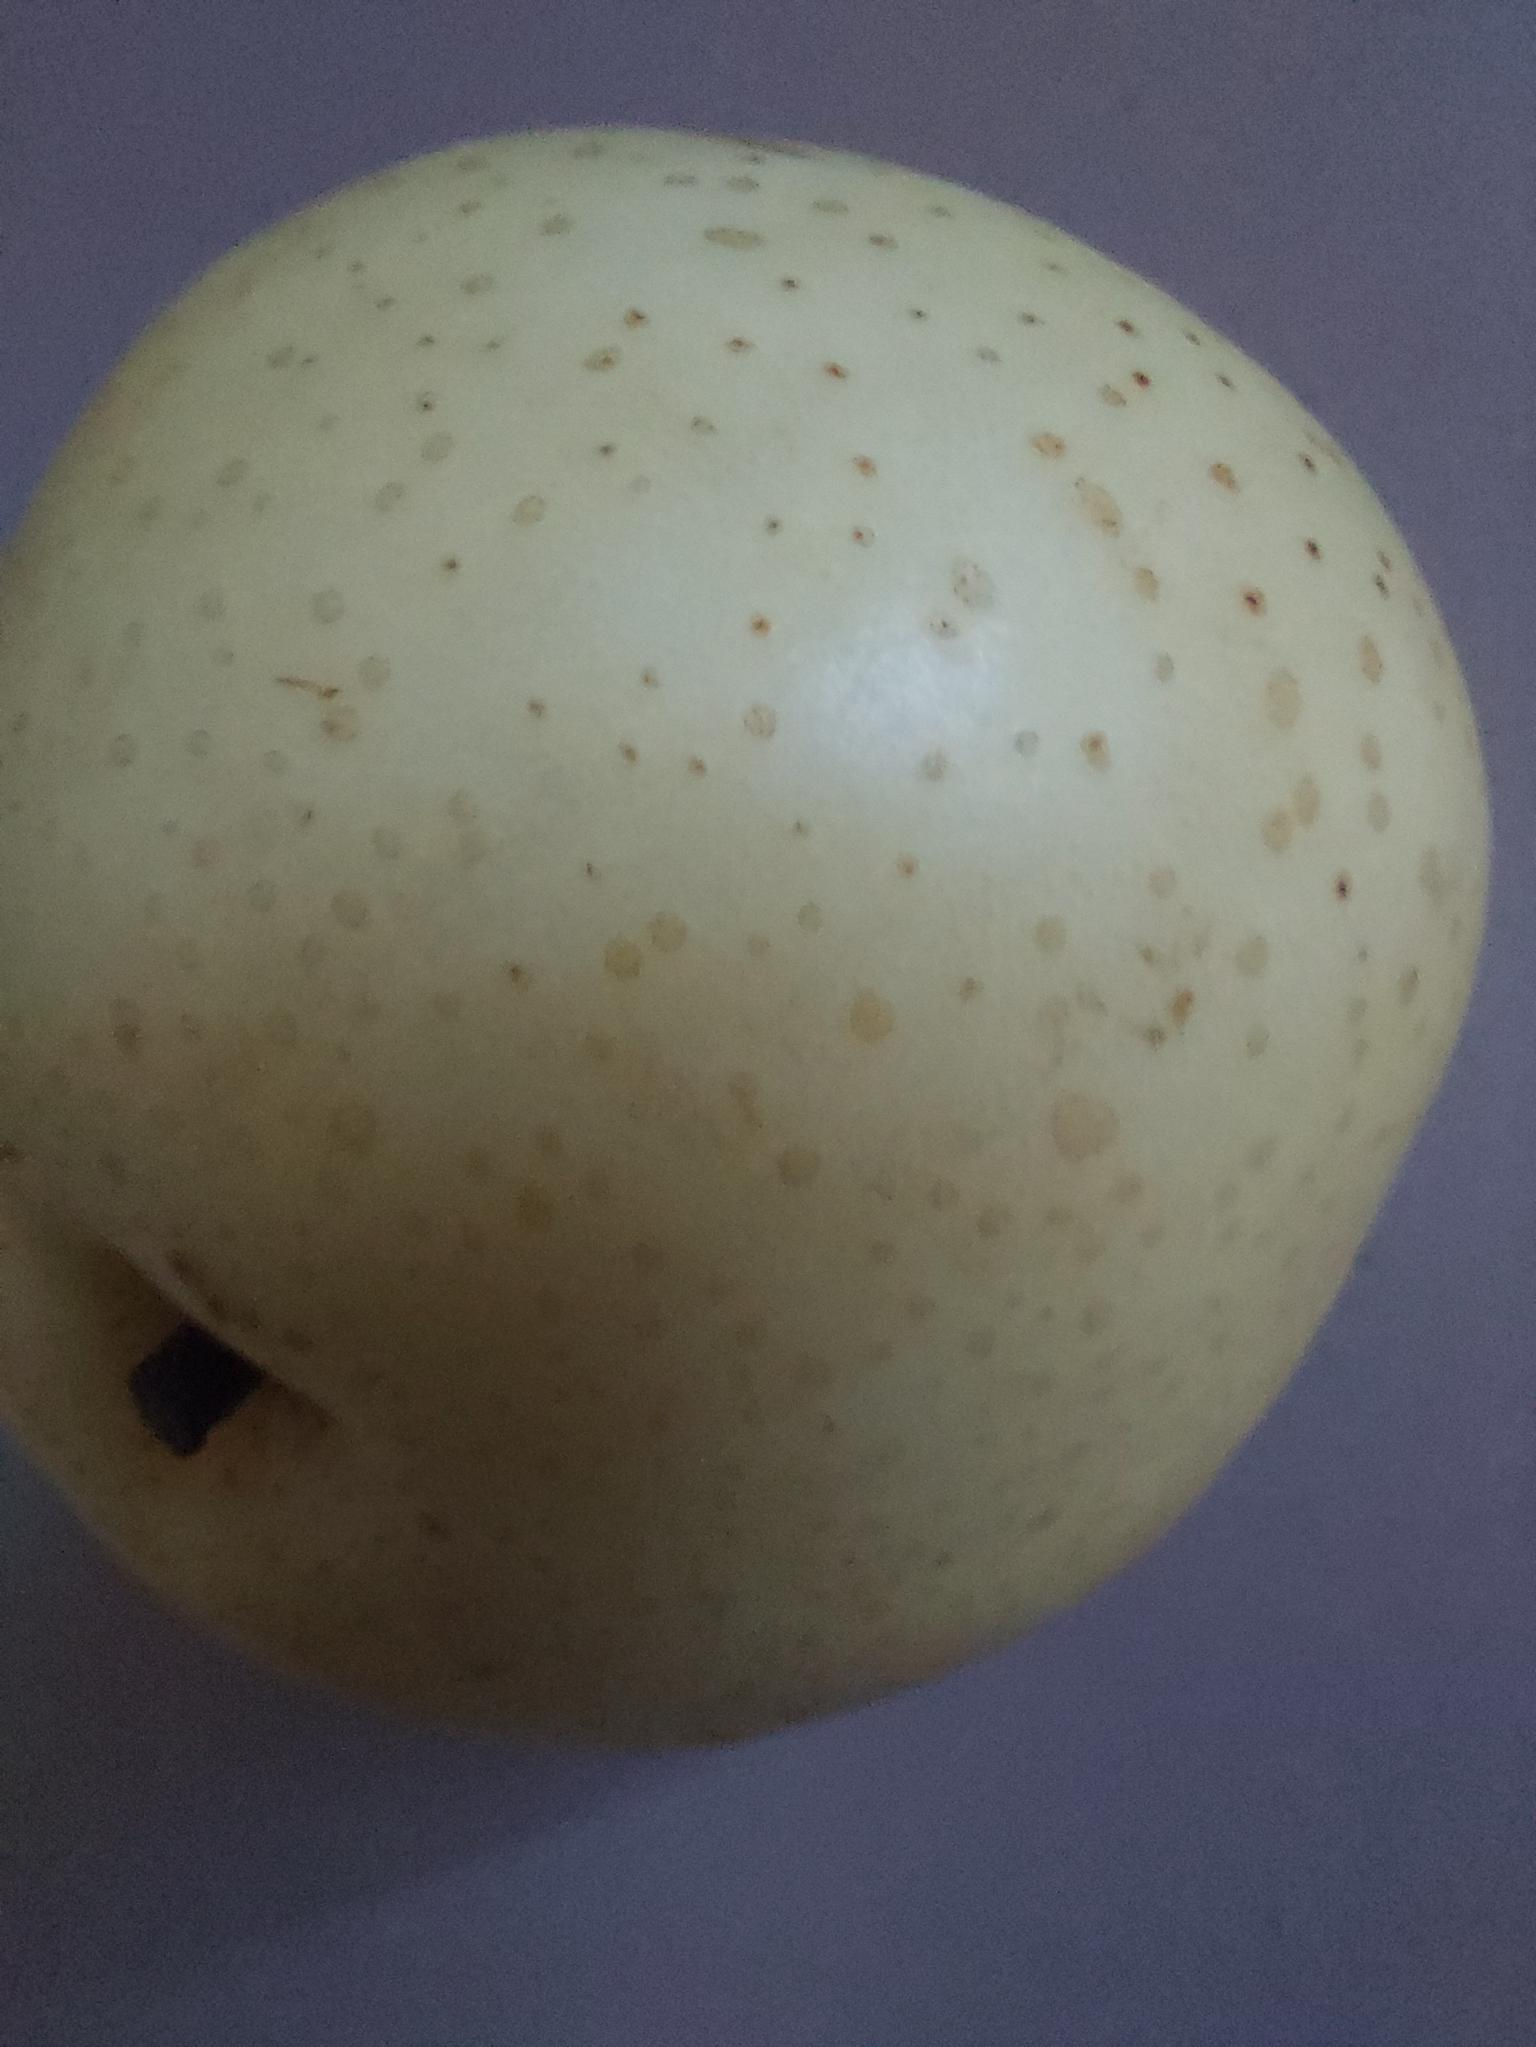Good Pear: (0, 73, 1536, 1832)
